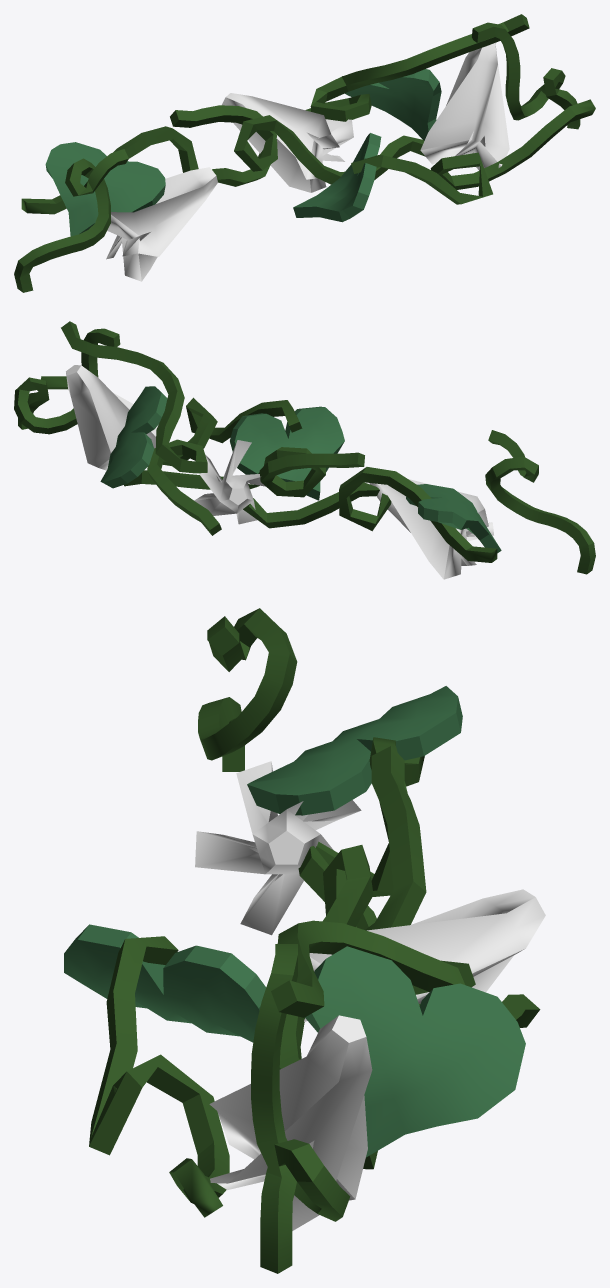
Rendered from flower_bed.fbx.
The picture shows the model from 3 angles, top to bottom: view 1: azimuth 30°, elevation 25°; view 2: azimuth 150°, elevation 25°; view 3: azimuth 270°, elevation 25°; orthographic projection. The views are drawn at different scales.
Visible parts, largest first — view 1: pCylinder4, pCylinder3, pPlane2, pCube7, pCube9, pCylinder2, pCube2, pCube5, pPlane1, pPlane3, pCube8, pCube6; view 2: pCube2, pCube6, pPlane3, pCylinder4, pCube9, pCube5, pPlane1, pCylinder3, pCube8, pCylinder2, pCube7, pPlane2; view 3: pPlane1, pCylinder4, pCube7, pCube8, pPlane3, pPlane2, pCube9, pCylinder3, pCylinder2, pCube5, pCube2, pCube6.
Part boxes in pixels (bbox=[...]): pCylinder4: bbox=[420, 43, 509, 170]; pCylinder3: bbox=[106, 167, 217, 281]; pPlane2: bbox=[45, 142, 165, 236]; pCube7: bbox=[351, 99, 595, 204]; pCube9: bbox=[170, 105, 425, 184]; pCylinder2: bbox=[222, 93, 353, 192]; pCube2: bbox=[305, 14, 529, 121]; pCube5: bbox=[14, 149, 128, 292]; pPlane1: bbox=[342, 69, 441, 140]; pPlane3: bbox=[293, 133, 381, 222]; pCube8: bbox=[472, 22, 580, 129]; pCube6: bbox=[21, 126, 270, 214]; pCube2: bbox=[61, 321, 221, 535]; pCube6: bbox=[243, 467, 497, 562]; pPlane3: bbox=[230, 406, 344, 500]; pCylinder4: bbox=[66, 365, 158, 485]; pCube9: bbox=[124, 447, 364, 497]; pCube5: bbox=[485, 430, 595, 574]; pPlane1: bbox=[100, 386, 167, 488]; pCylinder3: bbox=[369, 479, 493, 579]; pCube8: bbox=[14, 328, 120, 434]; pCylinder2: bbox=[194, 440, 265, 524]; pCube7: bbox=[40, 376, 302, 465]; pPlane2: bbox=[406, 484, 501, 553]; pPlane1: bbox=[305, 946, 525, 1157]; pCylinder4: bbox=[209, 1015, 372, 1230]; pCube7: bbox=[89, 936, 229, 1217]; pCube8: bbox=[251, 944, 350, 1273]; pPlane3: bbox=[64, 924, 266, 1042]; pPlane2: bbox=[247, 686, 462, 815]; pCube9: bbox=[279, 746, 426, 1169]; pCylinder3: bbox=[195, 761, 361, 935]; pCylinder2: bbox=[304, 889, 545, 1021]; pCube5: bbox=[198, 608, 297, 771]; pCube2: bbox=[271, 920, 540, 1027]; pCube6: bbox=[298, 737, 424, 929].
Size of the model in its own units: 17.99 by 4.87 by 6.65.
